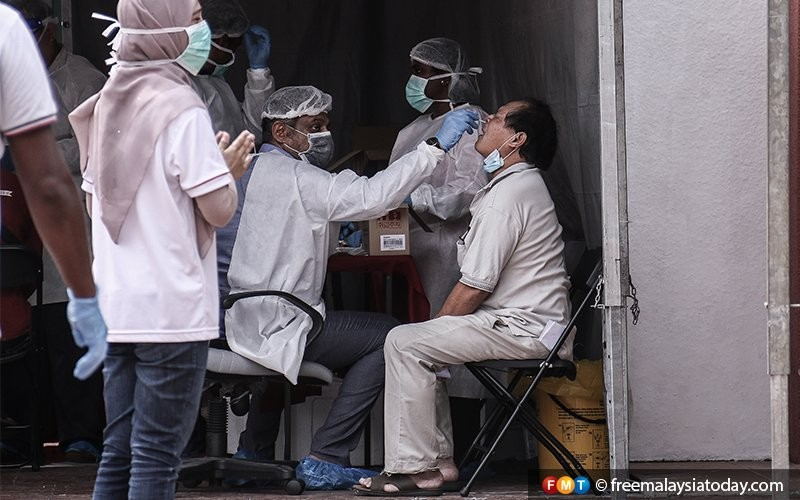Gloves: (62, 291, 118, 386), (428, 103, 482, 154)
mask_weared_incorrect: (473, 108, 511, 172)
with_mask: (169, 8, 214, 73), (290, 114, 340, 170), (401, 59, 449, 117)
